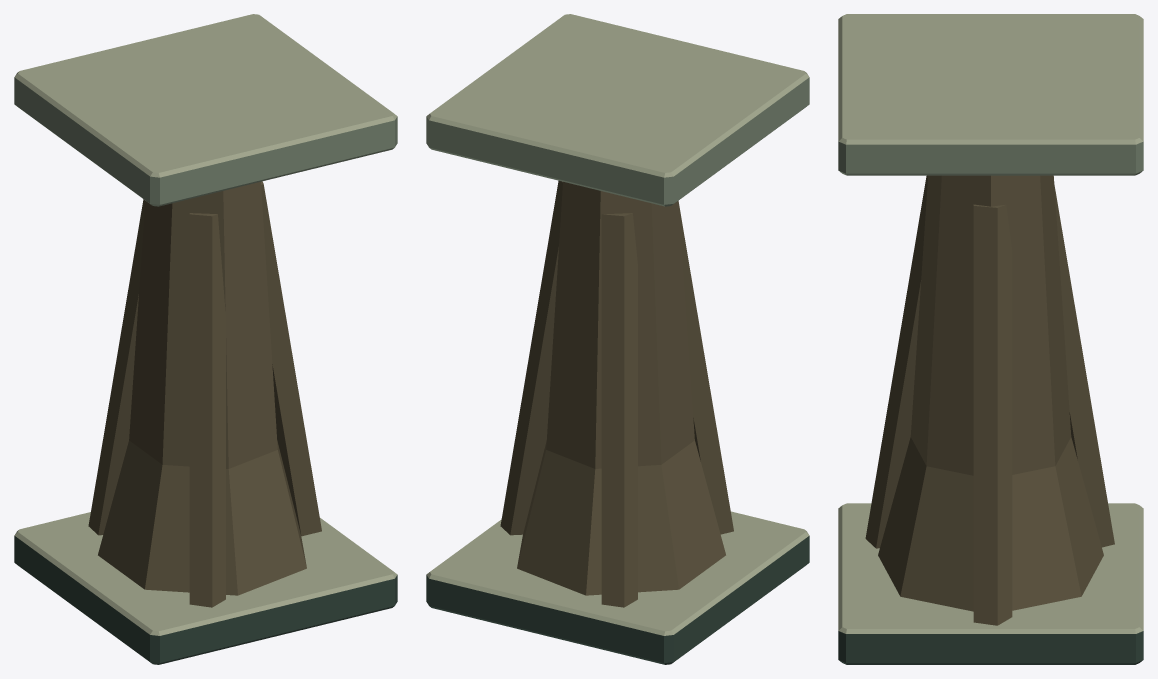
File: pillar-large.glb
3 views of the same model, side by side, from view 1: azimuth 30°, elevation 25°; view 2: azimuth 150°, elevation 25°; view 3: azimuth 270°, elevation 25° (orthographic). The views are drawn at different scales.
Parts seen in each view (by area): view 1: pillar-large__body; view 2: pillar-large__body; view 3: pillar-large__body.
Boxes of the visible parts, x1,y1,x2,y2 form: pillar-large__body: (14,14,397,664); pillar-large__body: (426,14,809,664); pillar-large__body: (838,14,1143,664).
Size of the model in its own units: 1 by 1.9 by 1.
